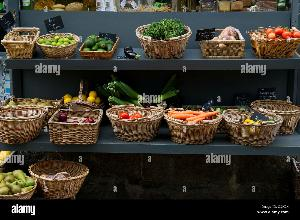avocado: (82, 30, 118, 54)
carrot: (167, 103, 218, 136)
lime: (37, 29, 80, 51)
pear: (0, 167, 36, 199)
tomato: (110, 105, 162, 135), (248, 24, 300, 50)
